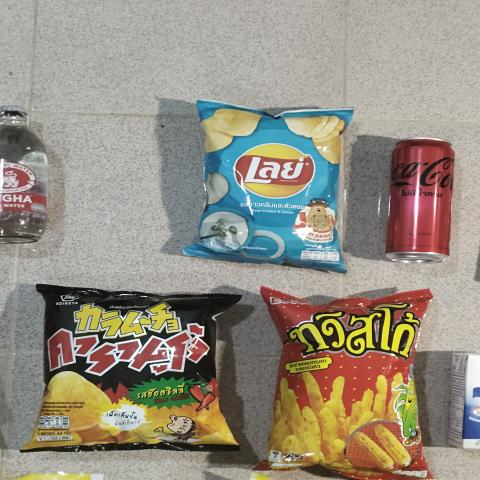coke_red: (390, 136, 459, 257)
karamujo: (30, 296, 221, 455)
lay_blue: (200, 112, 335, 252)
twisco: (280, 305, 411, 466)
